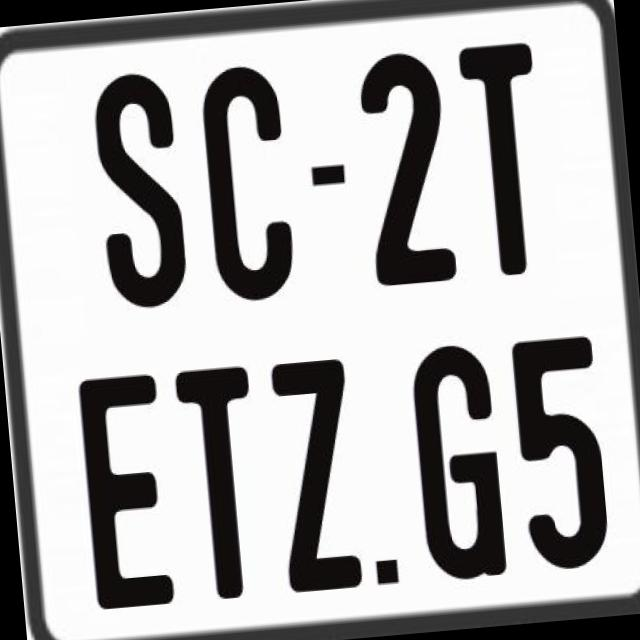2: (354, 46, 457, 292)
5: (508, 332, 612, 573)
C: (199, 60, 298, 306)
E: (76, 370, 176, 611)
G: (410, 342, 513, 591)
S: (90, 66, 192, 306)
T: (454, 39, 555, 286), (173, 365, 267, 608)
Z: (268, 353, 366, 592)
